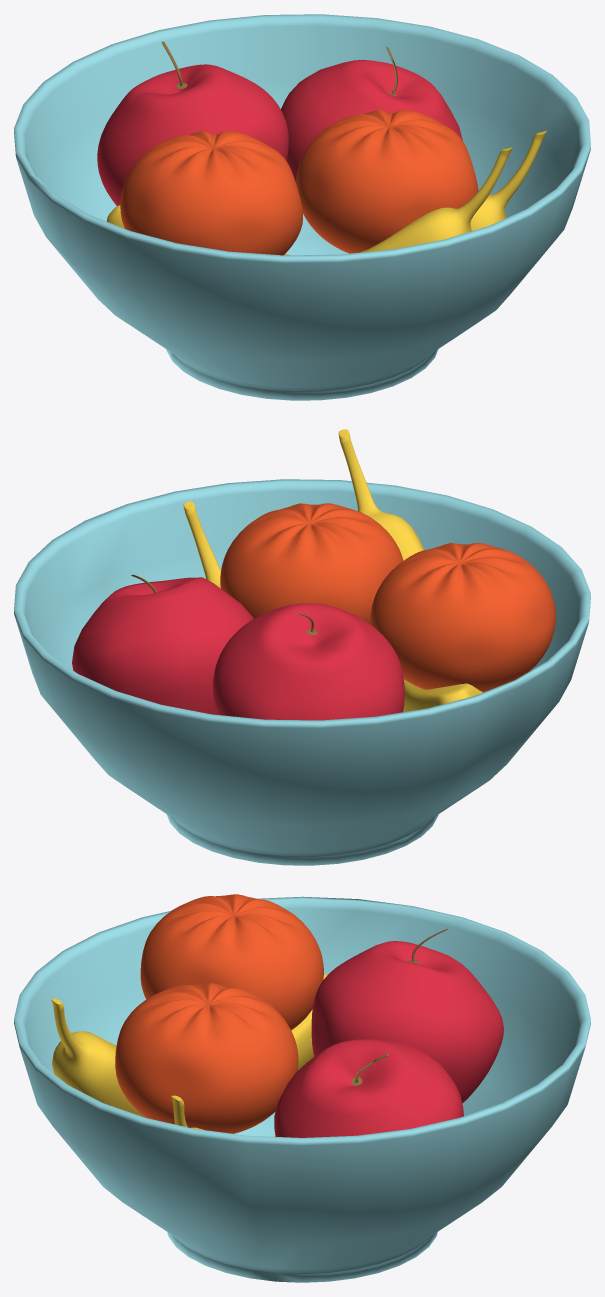
The model's file is bowl with fruits.fbx.
3 renders of one model, top to bottom at view 1: azimuth 30°, elevation 25°; view 2: azimuth 150°, elevation 25°; view 3: azimuth 270°, elevation 25°, orthographic.
Parts seen in each view (by area): view 1: apple_top.001; view 2: apple_top.001; view 3: apple_top.001.
Part boxes in pixels (x1,y1,x2,y2): apple_top.001: (14,14,590,400); apple_top.001: (14,429,590,865); apple_top.001: (14,894,590,1282).
Size of the model in its own units: 75.92 by 38.58 by 75.92.
